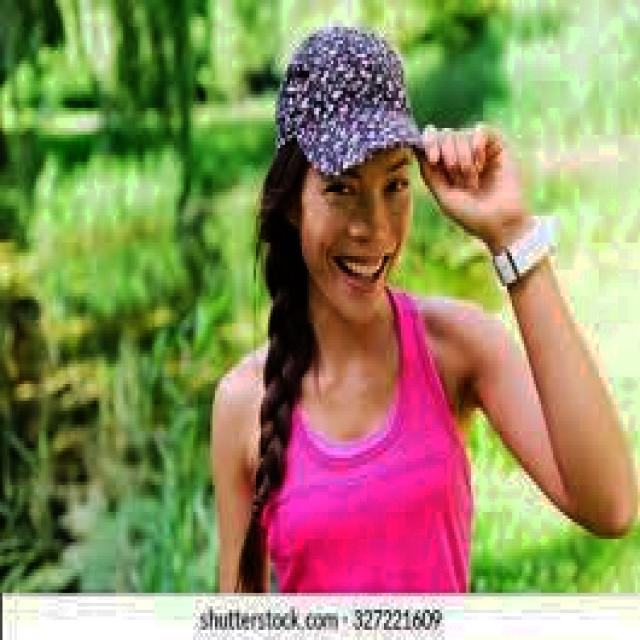TOPI: (271, 14, 425, 175)
